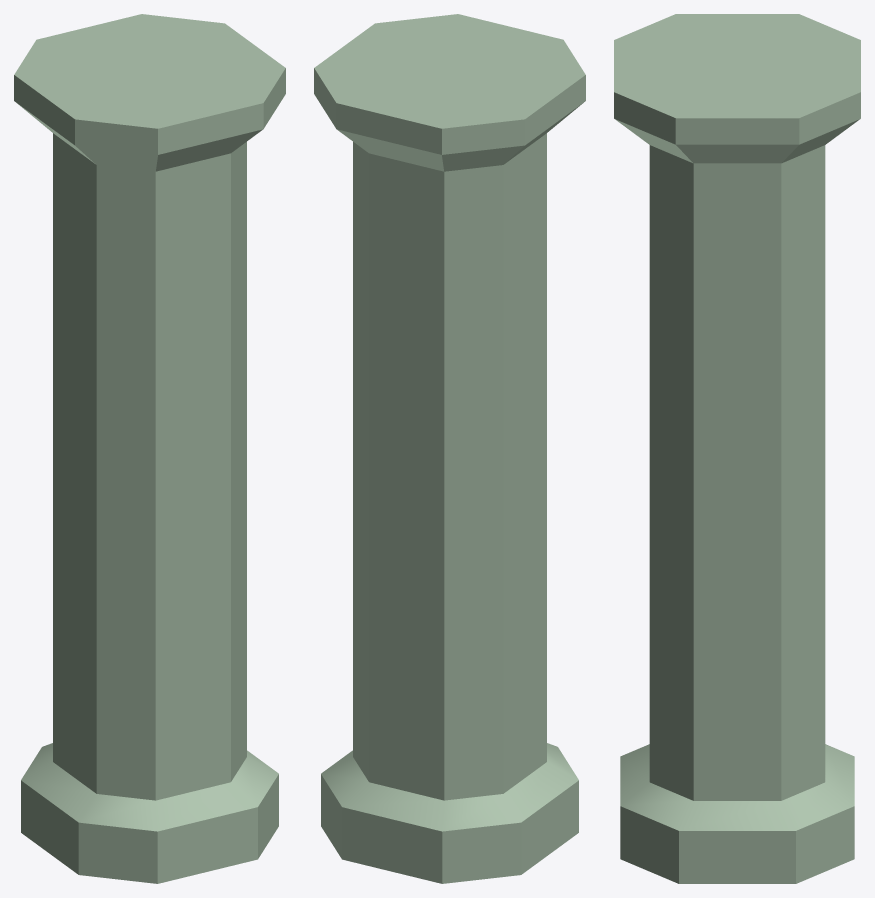
The model's file is LevelPillar.fbx.
3 views of the same model, side by side, from view 1: azimuth 30°, elevation 25°; view 2: azimuth 150°, elevation 25°; view 3: azimuth 270°, elevation 25° (orthographic).
Visible parts, largest first — view 1: Pillar; view 2: Pillar; view 3: Pillar.
Boxes of the visible parts, <box> form: Pillar: <box>14,14,285,883</box>; Pillar: <box>314,14,585,883</box>; Pillar: <box>614,14,860,883</box>.
Size of the model in its own units: 1.05 by 3.61 by 1.05.
